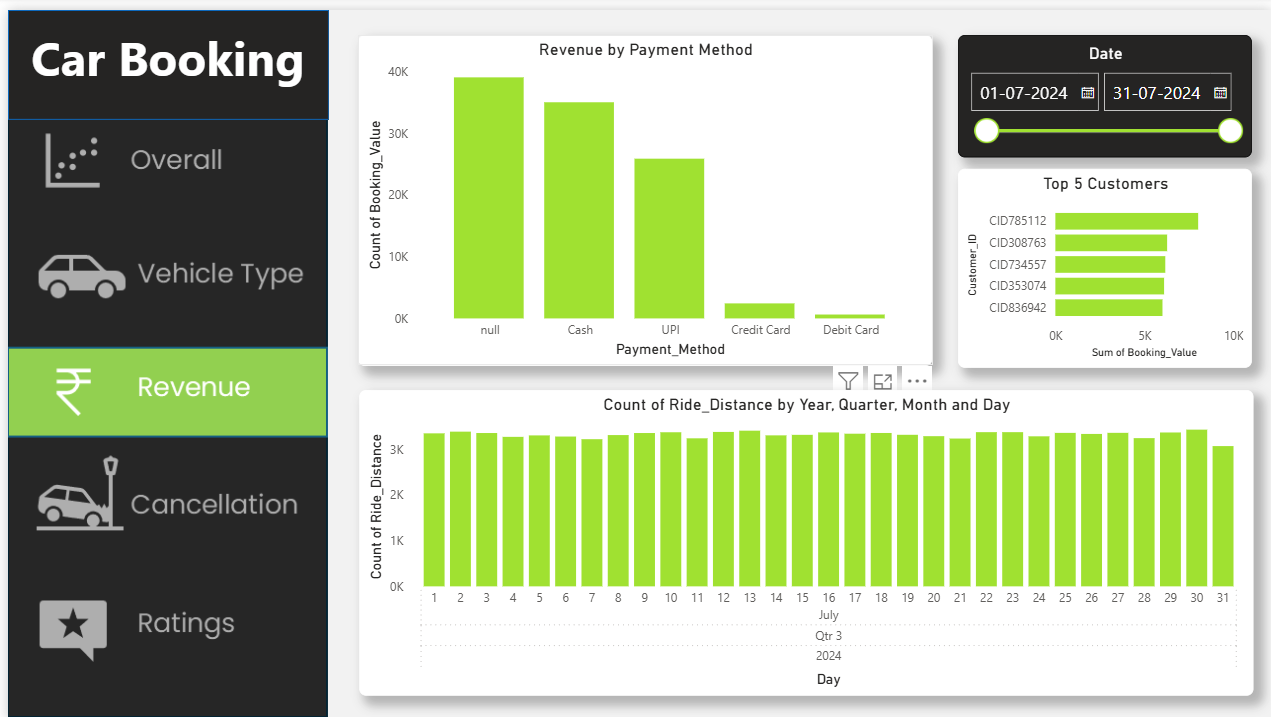

Layout of this report page (visuals, bound fields, positions):
{"tool":"powerbi","page":{"name":"Revenue","canvas":[1280,720],"ordinal":2},"visuals":[{"type":"actionButton","box":[0,226.8,324.5,88.1],"z":0},{"type":"actionButton","box":[0,341.2,325,91.2],"z":1000},{"type":"actionButton","box":[0,448.8,325,91.2],"z":2000},{"type":"actionButton","box":[0,581.2,325,90],"z":3000},{"type":"actionButton","box":[0,105,325,88.8],"z":4000},{"type":"columnChart","title":"Revenue by Payment Method","fields":{"Y":["CountNonNull(Booking.Booking_Value)"],"Category":["Booking.Payment_Method"]},"box":[355,25,581.7,335],"z":5000},{"type":"columnChart","fields":{"Y":["CountNonNull(Booking.Ride_Distance)"],"Category":["Booking.Date.Variation.Date Hierarchy.Year","Booking.Date.Variation.Date Hierarchy.Quarter","Booking.Date.Variation.Date Hierarchy.Month","Booking.Date.Variation.Date Hierarchy.Day"]},"box":[355.8,384.9,905.3,309.8],"z":6000},{"type":"slicer","title":"Date","fields":{"Values":["Booking.Date"]},"box":[961.5,25.3,298,124.3],"z":7000},{"type":"barChart","title":"Top 5 Customers","fields":{"Category":["Booking.Customer_ID"],"Y":["Sum(Booking.Booking_Value)"]},"box":[961.5,160.5,298,201.5],"z":8000},{"type":"textbox","box":[0,226.2,323.8,8.8],"z":9000},{"type":"shape","box":[0,0,325,111.2],"z":10000},{"type":"textbox","box":[0,10,323.8,82.5],"z":11000}]}

Visuals, with their boxes in screenshot pixels (x1, y1, x2, y2), scaled from the page's 1280x720 canvas onto the 1271x717 screenshot:
actionButton: bbox=(0, 226, 322, 314)
actionButton: bbox=(0, 340, 323, 431)
actionButton: bbox=(0, 447, 323, 538)
actionButton: bbox=(0, 579, 323, 668)
actionButton: bbox=(0, 105, 323, 193)
"Revenue by Payment Method" columnChart: bbox=(353, 25, 930, 358)
columnChart - CountNonNull(Booking.Ride_Distance) x Booking.Date.Variation.Date Hierarchy.Year: bbox=(353, 383, 1252, 692)
"Date" slicer: bbox=(955, 25, 1251, 149)
"Top 5 Customers" barChart: bbox=(955, 160, 1251, 360)
textbox: bbox=(0, 225, 322, 234)
shape: bbox=(0, 0, 323, 111)
textbox: bbox=(0, 10, 322, 92)
